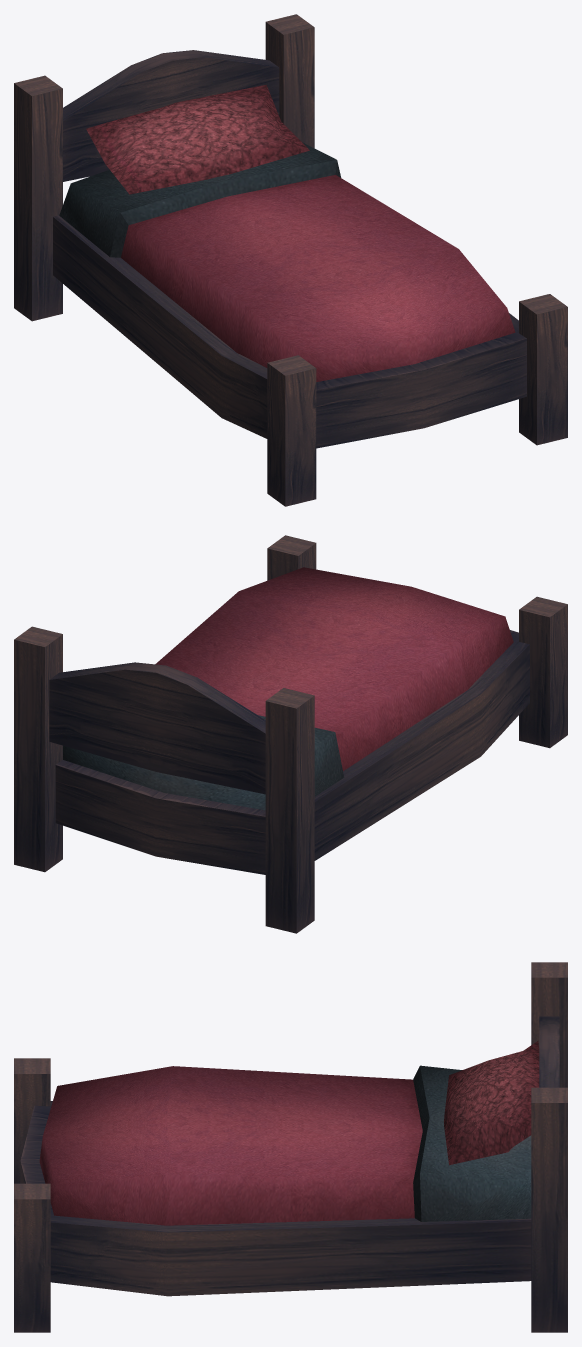
File: Bed_C.fbx
3 renders of one model, top to bottom at view 1: azimuth 30°, elevation 25°; view 2: azimuth 150°, elevation 25°; view 3: azimuth 270°, elevation 25°, orthographic. The views are drawn at different scales.
Visible parts, largest first — view 1: Bed_C; view 2: Bed_C; view 3: Bed_C.
Boxes of the visible parts, x1,y1,x2,y2 form: Bed_C: [14, 14, 567, 506]; Bed_C: [14, 535, 567, 933]; Bed_C: [14, 962, 567, 1332].
Size of the model in its own units: 31.17 by 23.71 by 51.81.
